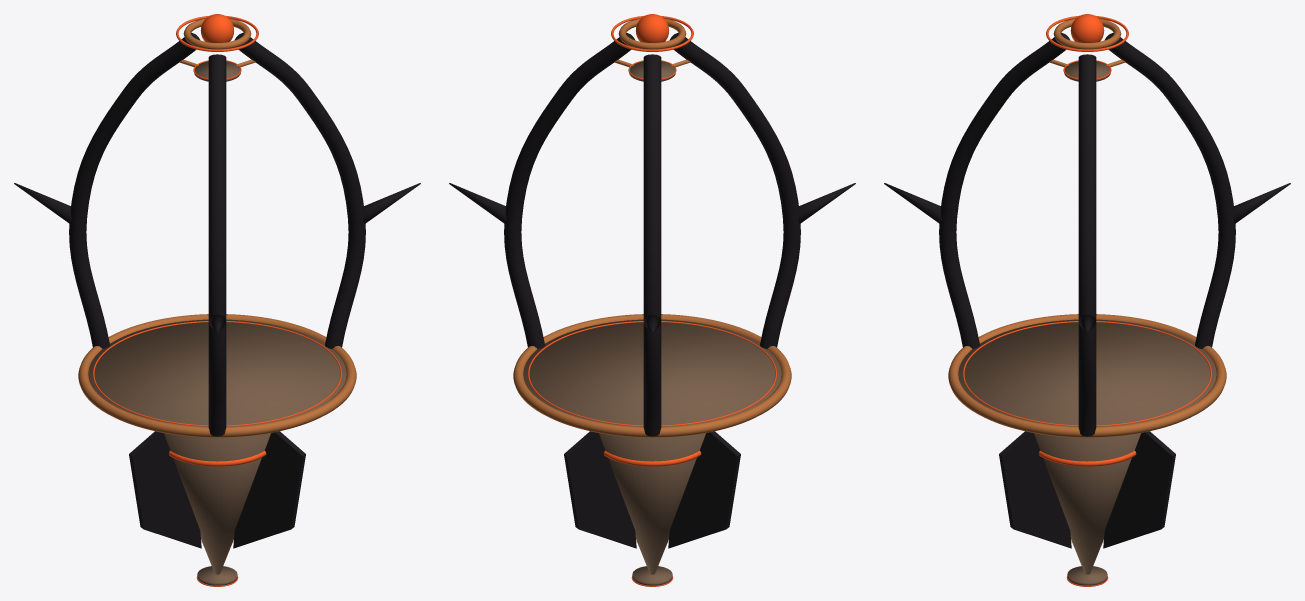
Rendered from fokusgeruest.obj.
The picture shows the model from 3 angles, left to right: view 1: azimuth 30°, elevation 25°; view 2: azimuth 150°, elevation 25°; view 3: azimuth 270°, elevation 25°; orthographic projection.
Parts seen in each view (by area): view 1: Fokusgeruest; view 2: Fokusgeruest; view 3: Fokusgeruest.
Part boxes in pixels (x1,y1,x2,y2): Fokusgeruest: (14, 14, 420, 586); Fokusgeruest: (449, 14, 855, 586); Fokusgeruest: (884, 14, 1290, 586).
Bounding box in the file's own units: 112 × 186 × 122.
